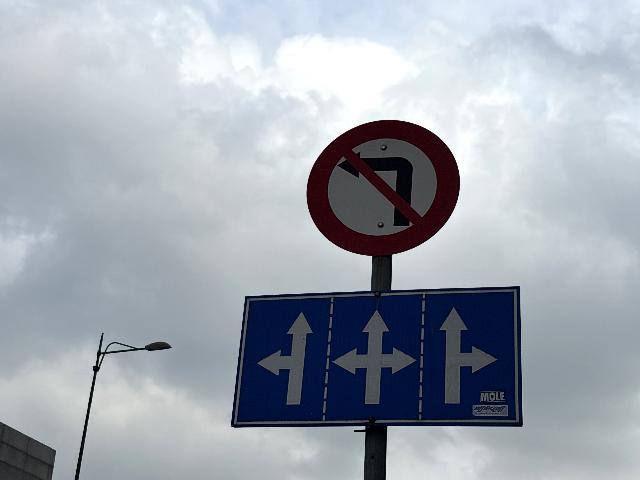cam-re-trai: (306, 119, 461, 256)
